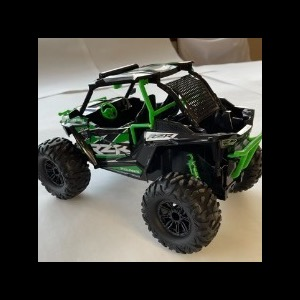polaris: (40, 62, 261, 255)
